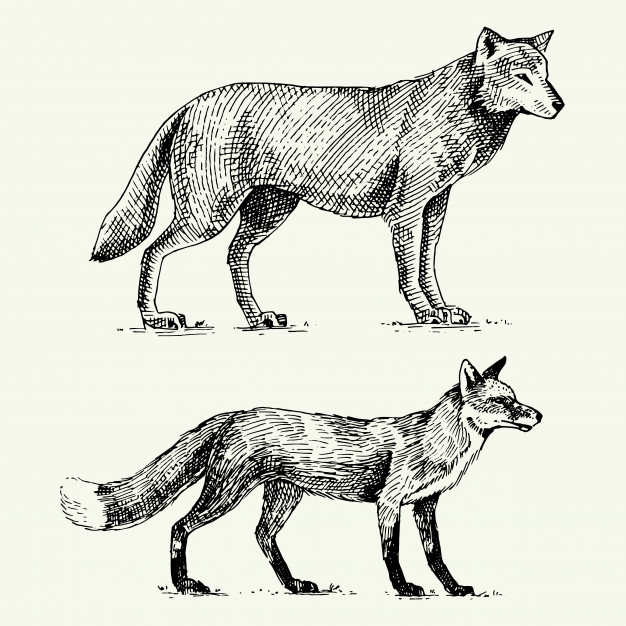Lobo: (141, 1, 570, 332)
